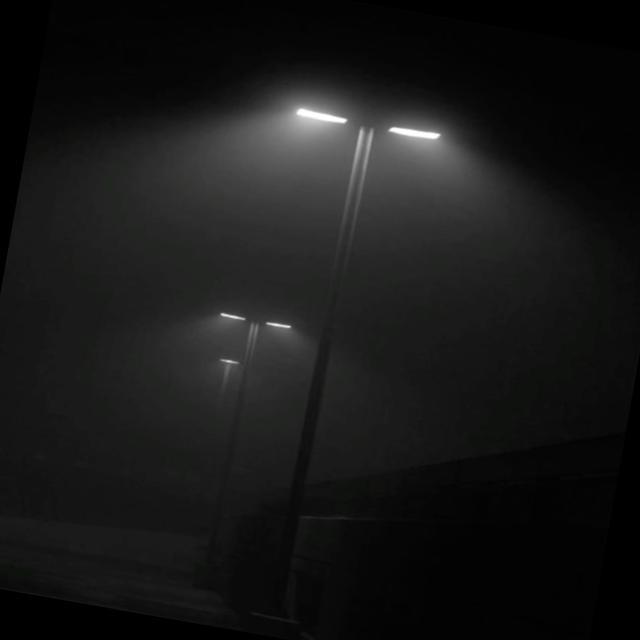on: (286, 87, 470, 159), (199, 289, 315, 381)
